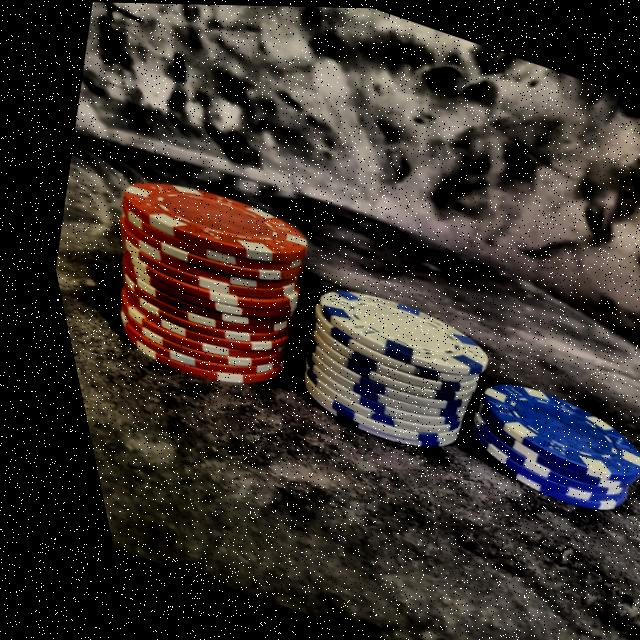Chip: (42, 131, 344, 421), (252, 251, 505, 479), (424, 353, 640, 529)
